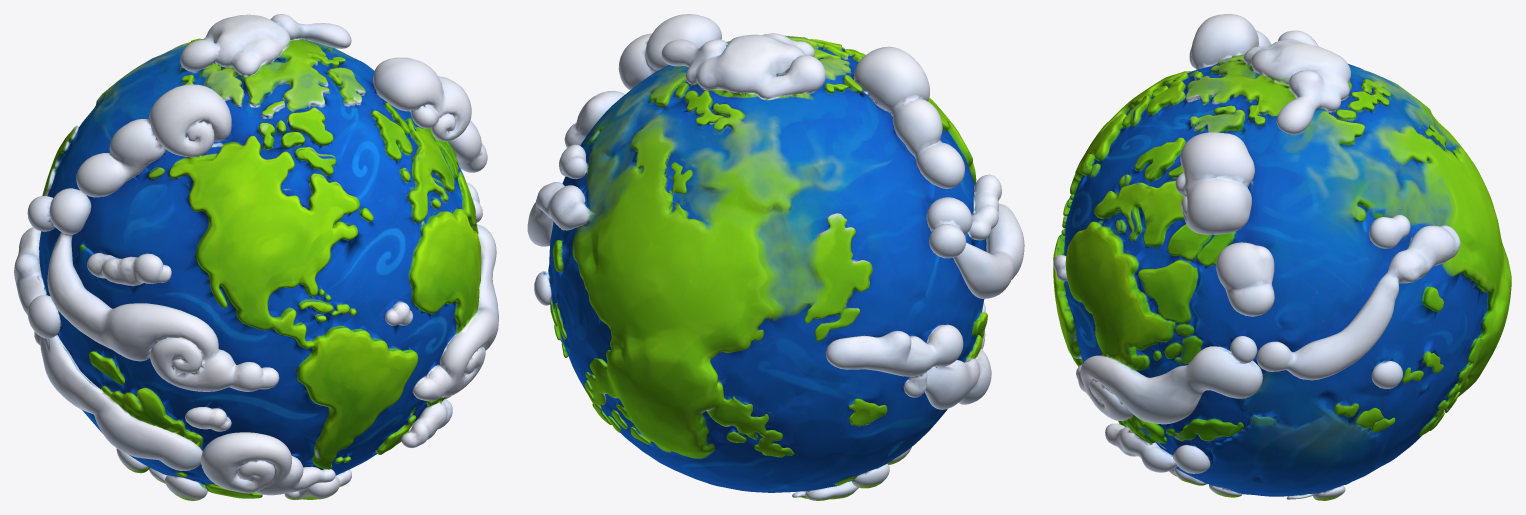
File: earth.glb
The picture shows the model from 3 angles, left to right: view 1: azimuth 30°, elevation 25°; view 2: azimuth 150°, elevation 25°; view 3: azimuth 270°, elevation 25°; orthographic projection. The views are drawn at different scales.
Size of the model in its own units: 1.9 by 1.85 by 1.79.
1 material, 1 textured.
